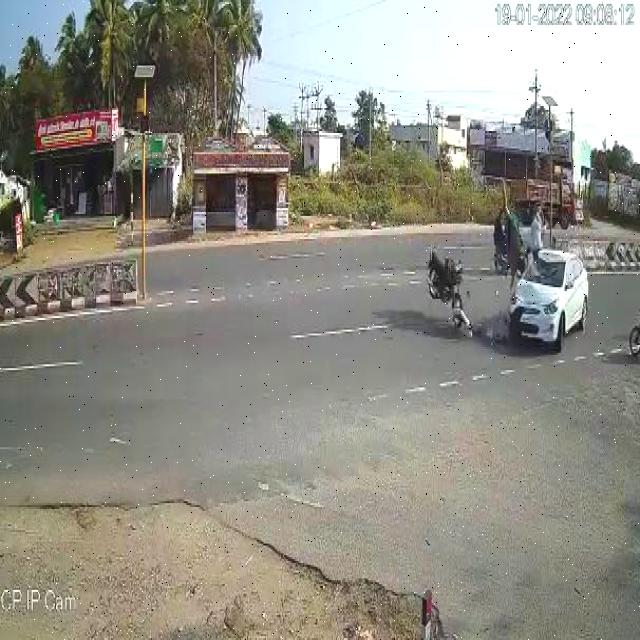accident: (423, 177, 592, 362)
